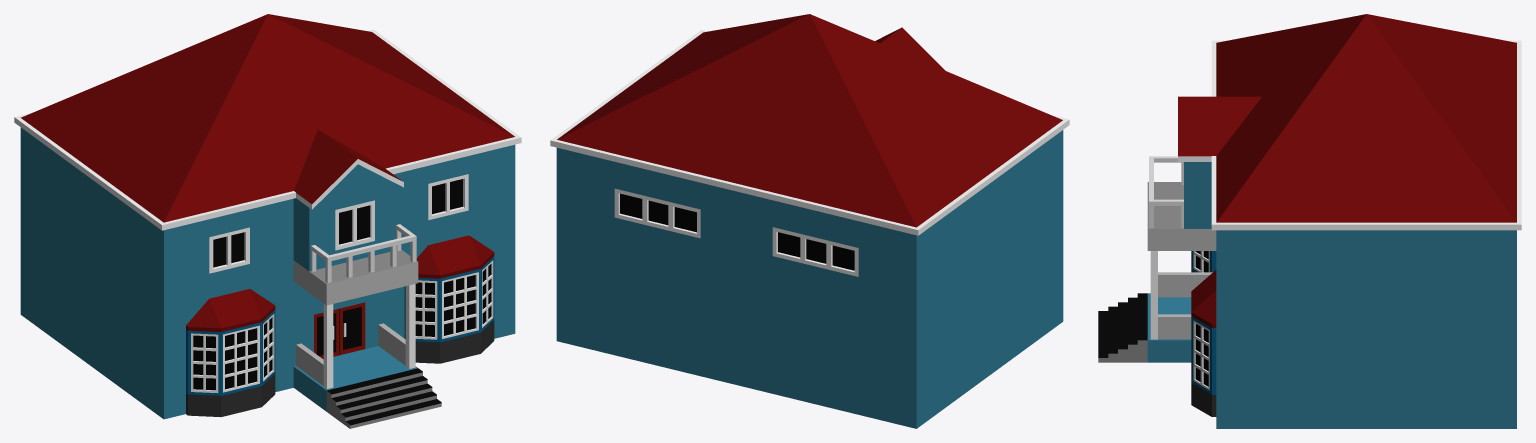
File: House-12.fbx
3 renders of one model, left to right at view 1: azimuth 30°, elevation 25°; view 2: azimuth 150°, elevation 25°; view 3: azimuth 270°, elevation 25°, orthographic. The views are drawn at different scales.
Visible parts, largest first — view 1: Cube; view 2: Cube; view 3: Cube.
Part boxes in pixels (bbox=[...]): Cube: bbox=[14, 14, 521, 428]; Cube: bbox=[550, 14, 1069, 428]; Cube: bbox=[1098, 14, 1521, 428].
Size of what is drawn, in the model's own units: 17.7 by 14.59 by 17.21.
